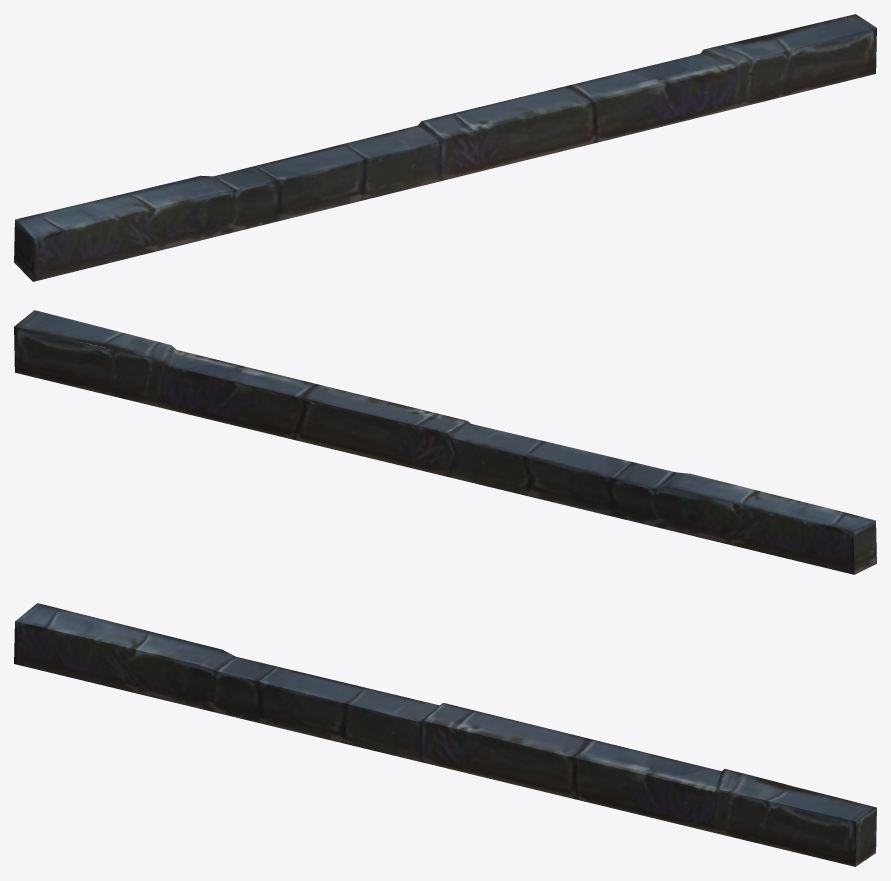
Rendered from HuBian_NightShitou9_fbx.FBX.
The picture shows the model from 3 angles, top to bottom: view 1: azimuth 30°, elevation 25°; view 2: azimuth 150°, elevation 25°; view 3: azimuth 330°, elevation 25°; orthographic projection.
Parts seen in each view (by area): view 1: Object020; view 2: Object020; view 3: Object020.
Boxes of the visible parts, x1=… form: Object020: x1=14, y1=14, x2=876, y2=281; Object020: x1=14, y1=310, x2=876, y2=574; Object020: x1=14, y1=603, x2=876, y2=866.
Bounding box in the file's own units: 2.96 × 0.1625 × 0.1268.
